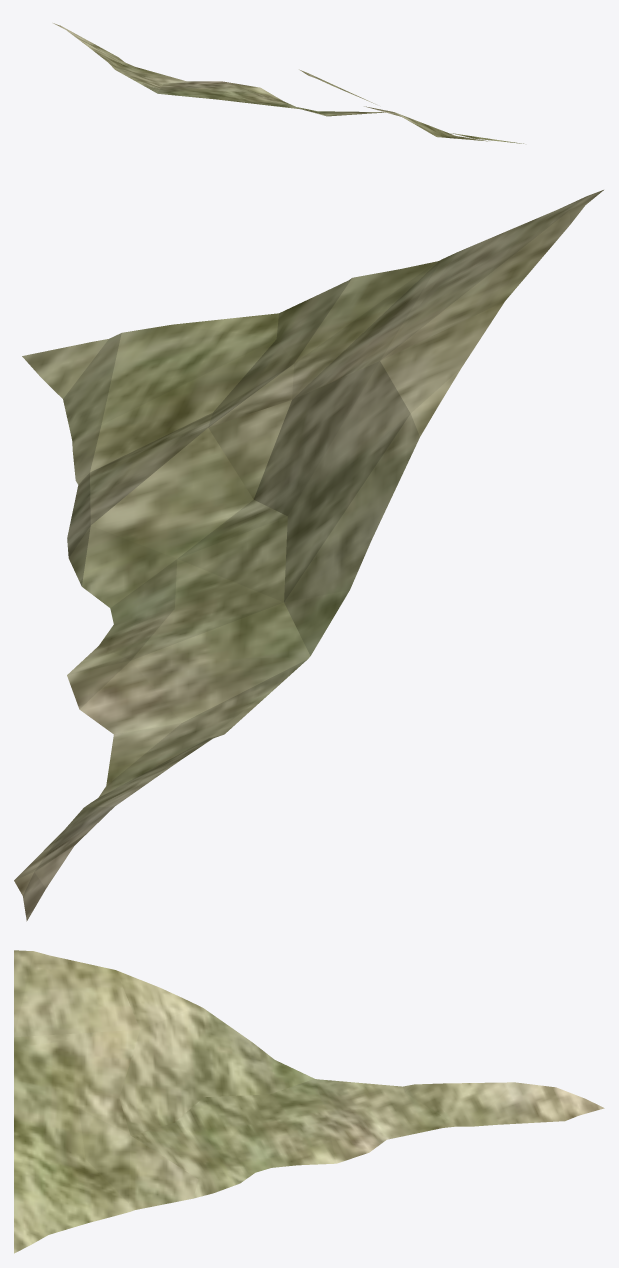
3 views of the same model, one above another, from view 1: azimuth 30°, elevation 25°; view 2: azimuth 150°, elevation 25°; view 3: azimuth 270°, elevation 25° (orthographic). The views are drawn at different scales.
Size of the model in its own units: 1.33 by 0.6754 by 2.29.
1 material, 1 textured.
